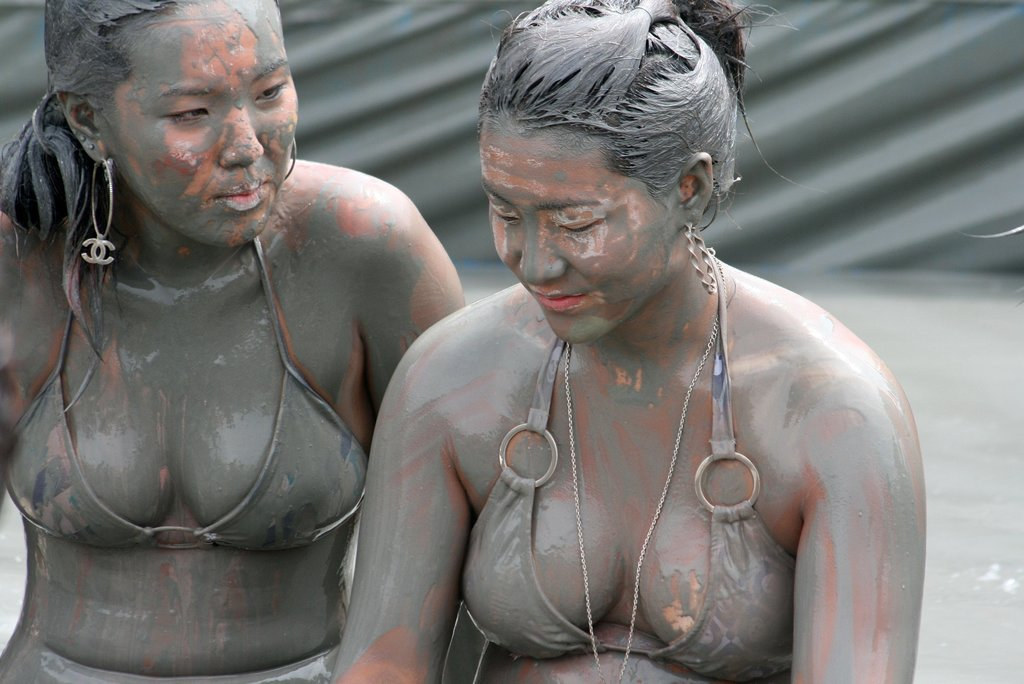Human-face: (110, 11, 298, 244), (480, 135, 666, 344)
